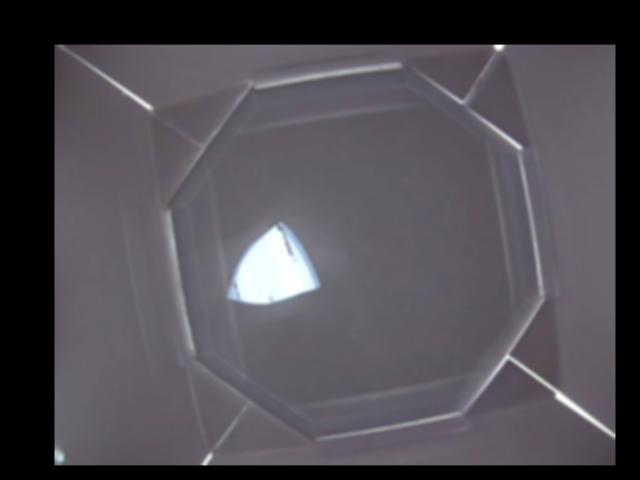China: (228, 221, 320, 306)
